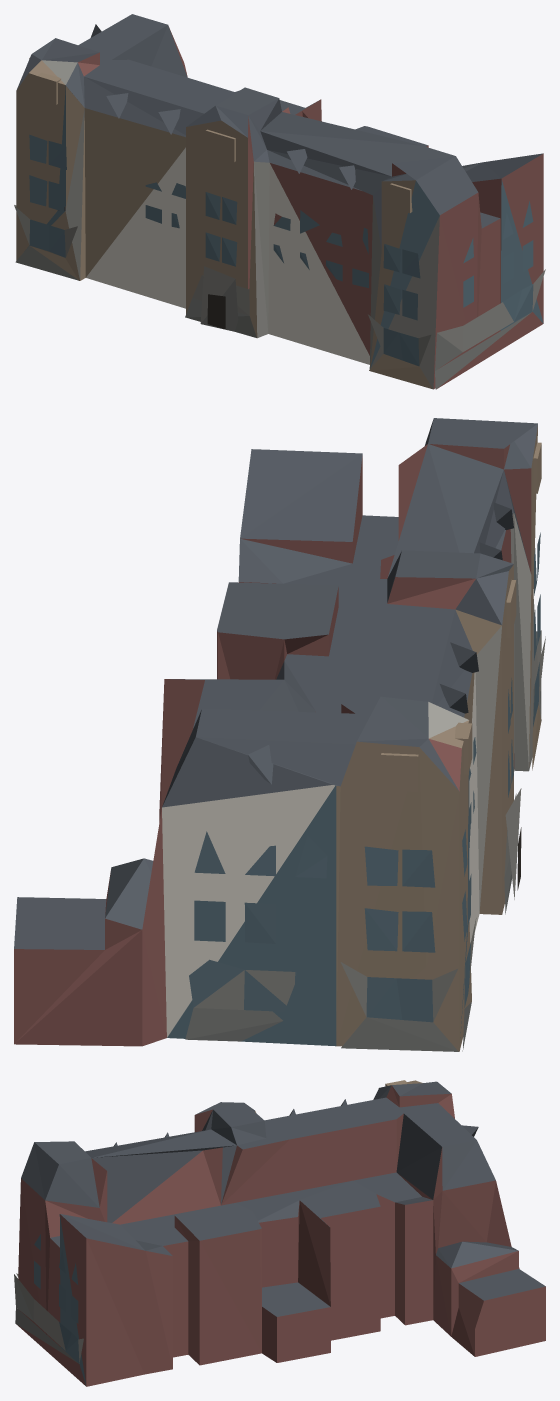
The model's file is school-raamplein-1.lod2.glb.
3 views of the same model, one above another, from view 1: azimuth 30°, elevation 25°; view 2: azimuth 150°, elevation 25°; view 3: azimuth 270°, elevation 25° (orthographic). The views are drawn at different scales.
Parts seen in each view (by area): view 1: lod2; view 2: lod2; view 3: lod2.
Boxes of the visible parts, x1,y1,x2,y2 form: lod2: (14,14,545,389); lod2: (14,418,545,1051); lod2: (14,1080,545,1386).
Bounding box in the file's own units: 39.58 × 23.65 × 62.32.
